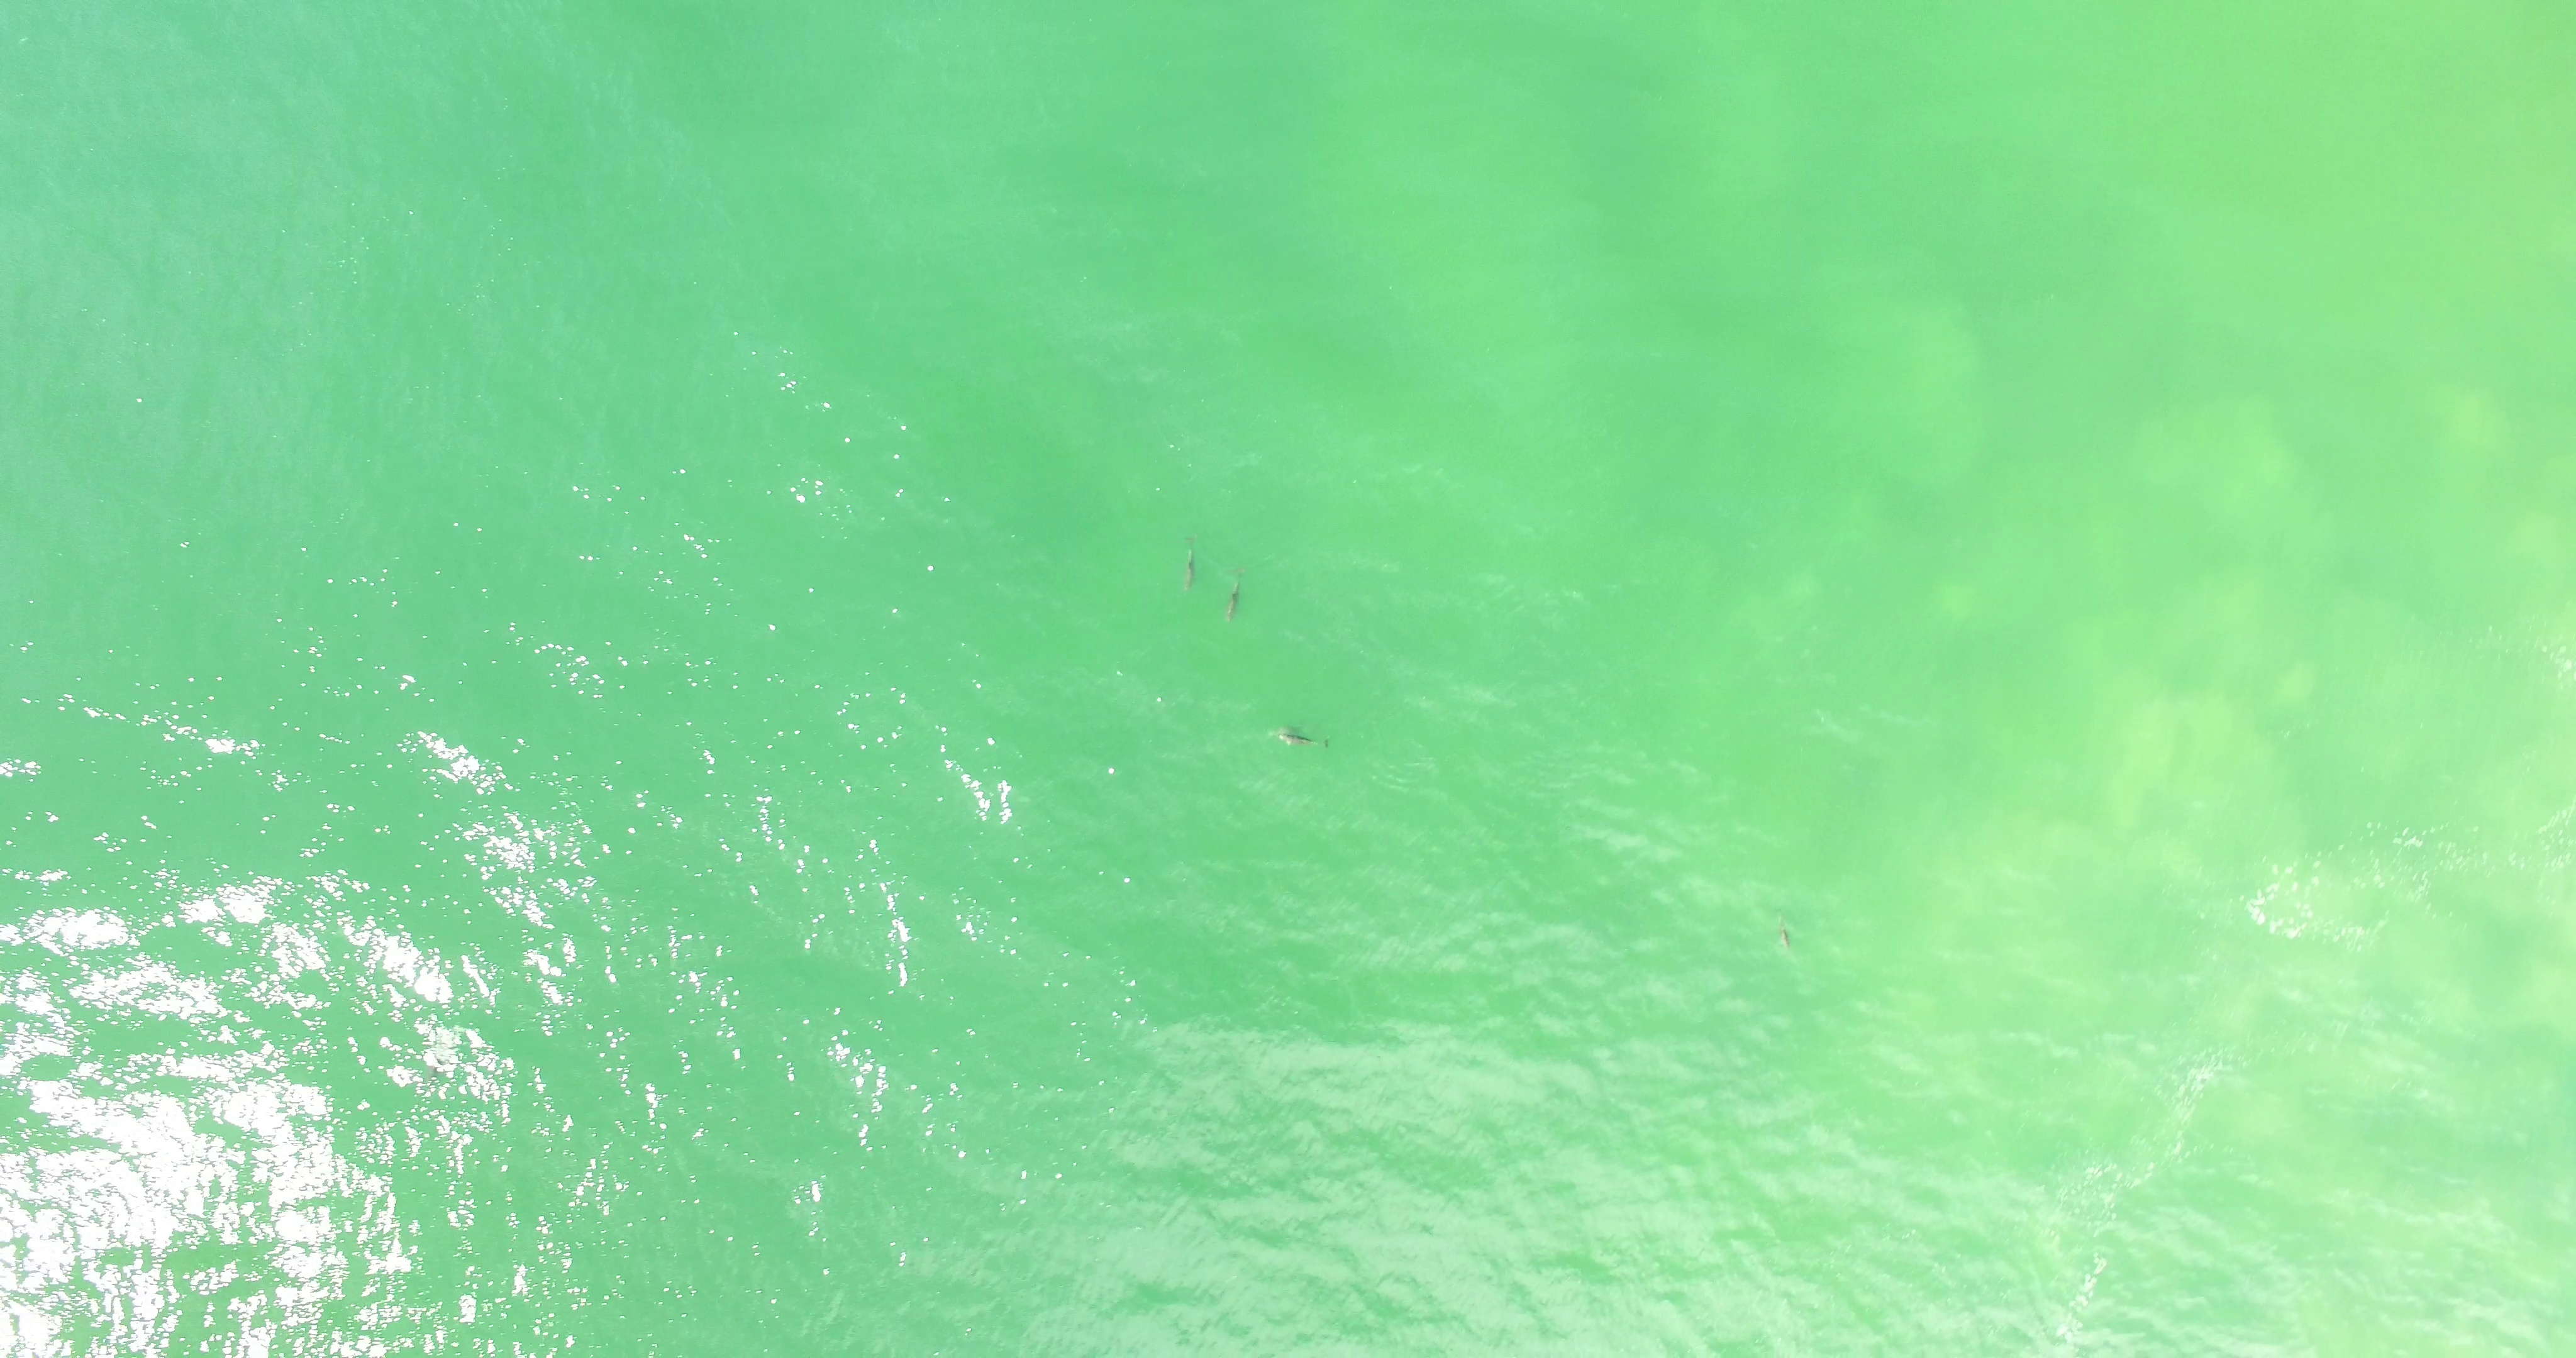dolphin: (1179, 533, 1201, 600), (1222, 564, 1247, 620), (1278, 729, 1332, 755), (1772, 908, 1797, 958), (429, 1022, 448, 1079)
